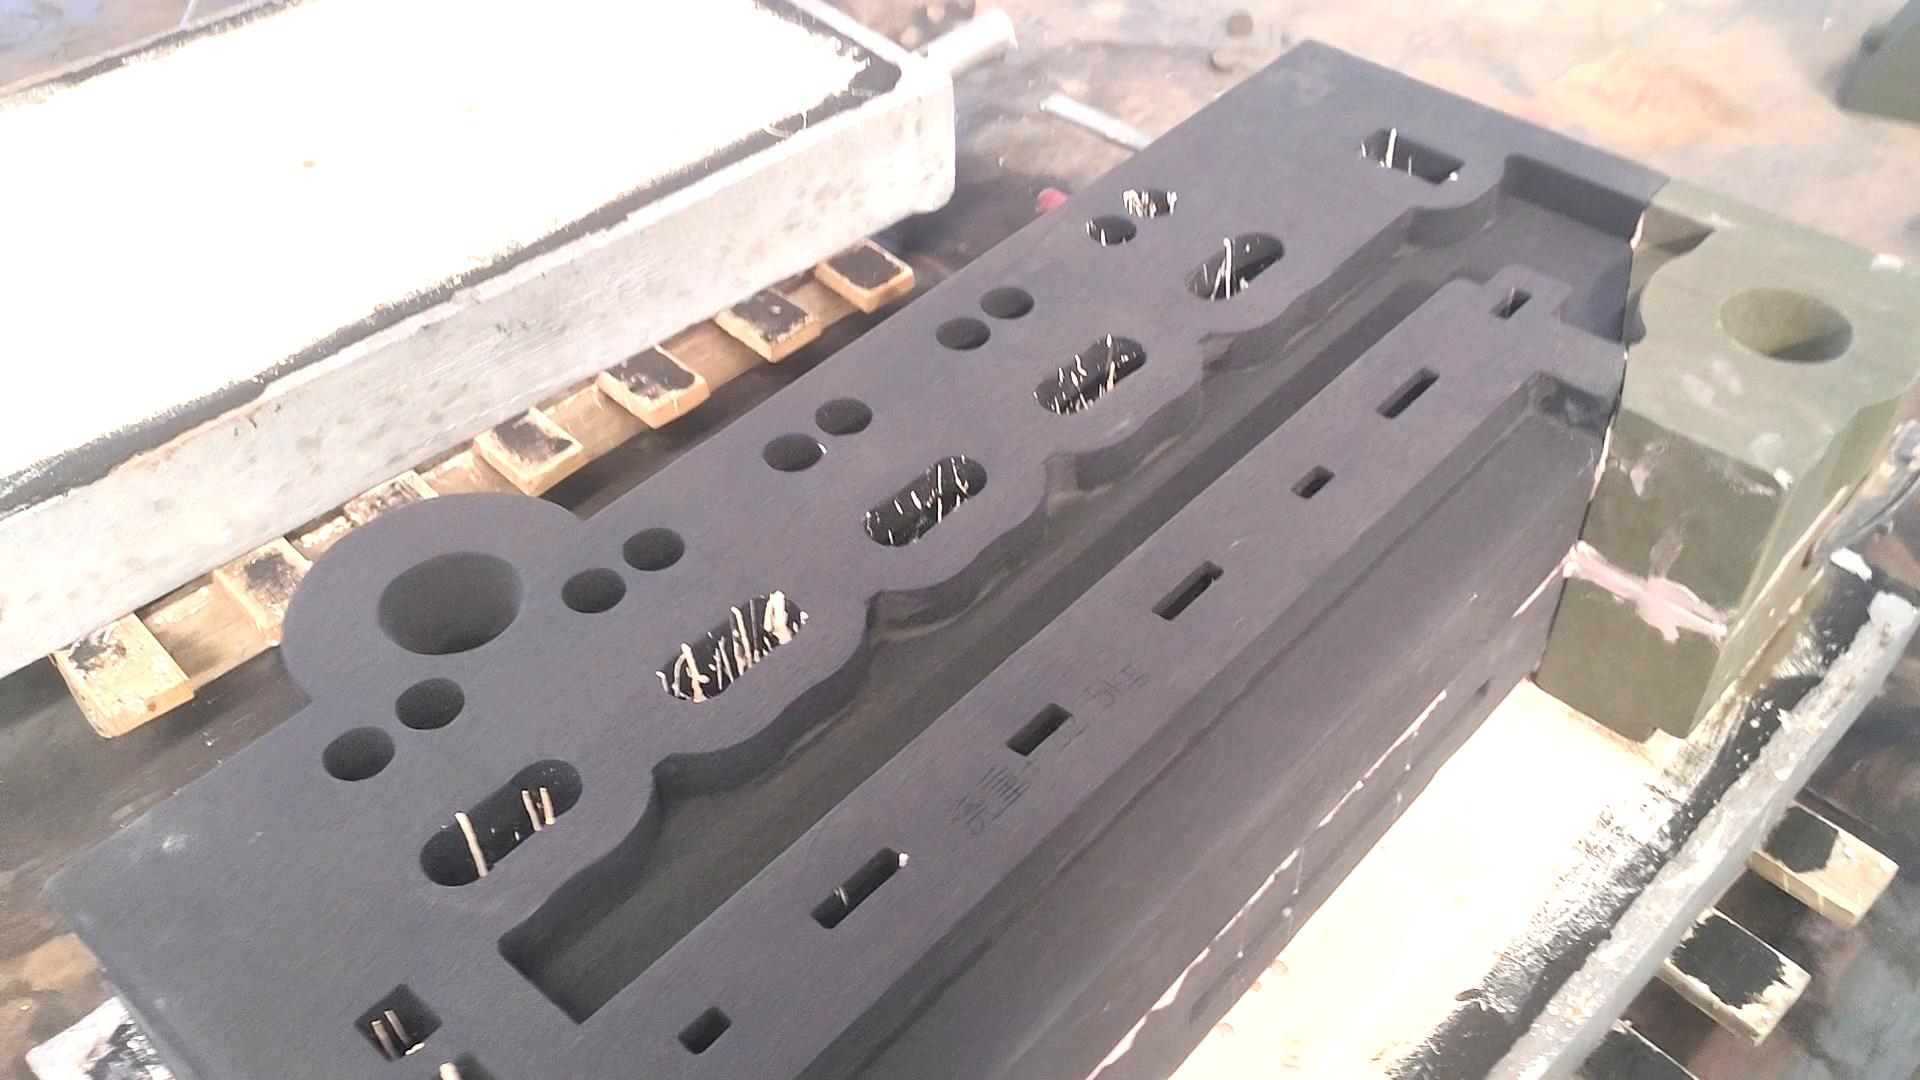pouring hole: (375, 550, 524, 658), (1716, 286, 1855, 364)
